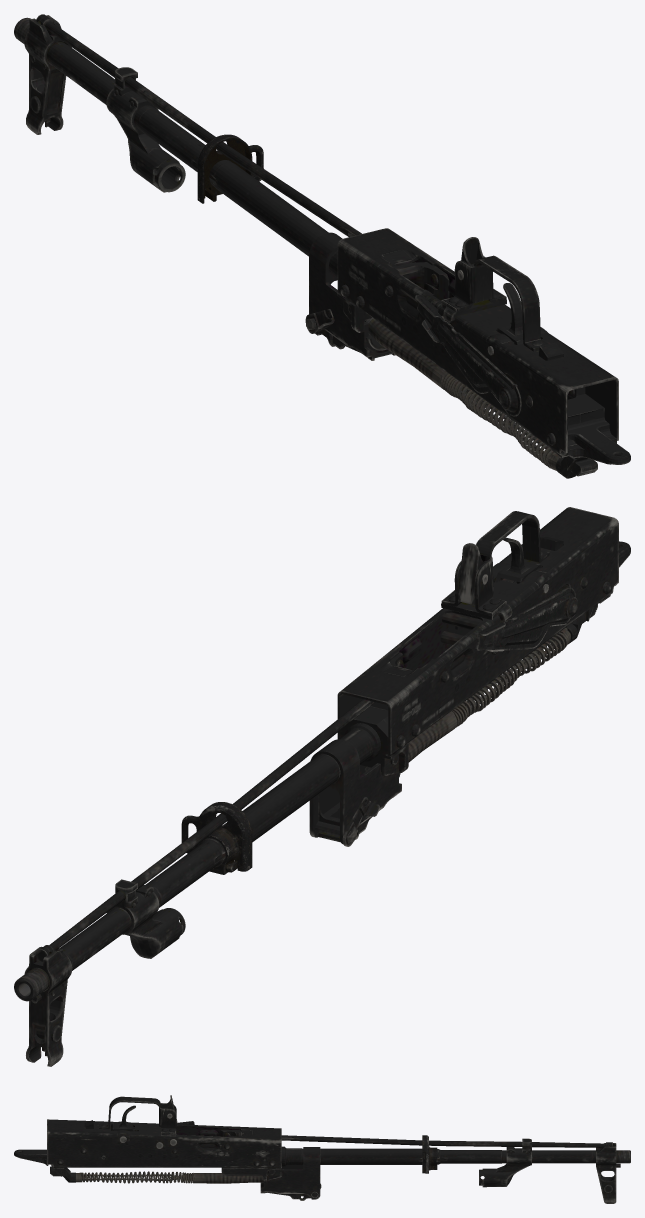
The picture shows the model from 3 angles, top to bottom: view 1: azimuth 30°, elevation 25°; view 2: azimuth 150°, elevation 25°; view 3: azimuth 270°, elevation 25°; orthographic projection. The views are drawn at different scales.
Parts seen in each view (by area): view 1: TW_59e6687d86f77411d949b251_PZ_Import; view 2: TW_59e6687d86f77411d949b251_PZ_Import; view 3: TW_59e6687d86f77411d949b251_PZ_Import.
Part boxes in pixels (left/top/right/bottom): TW_59e6687d86f77411d949b251_PZ_Import: left=14, top=14, right=630, bottom=478; TW_59e6687d86f77411d949b251_PZ_Import: left=14, top=507, right=630, bottom=1066; TW_59e6687d86f77411d949b251_PZ_Import: left=14, top=1095, right=630, bottom=1203.
Bounding box in the file's own units: 0.0291 × 0.3894 × 0.0736.
Materials: 1 (1 with a texture image).
